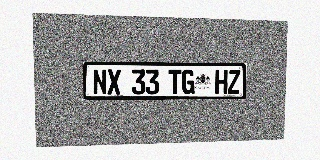3: (132, 69, 145, 95), (146, 69, 159, 94)
G: (182, 69, 195, 94)
H: (215, 70, 228, 94)
N: (93, 69, 107, 95)
T: (168, 69, 181, 94)
X: (107, 69, 121, 95)
Z: (228, 70, 240, 94)
